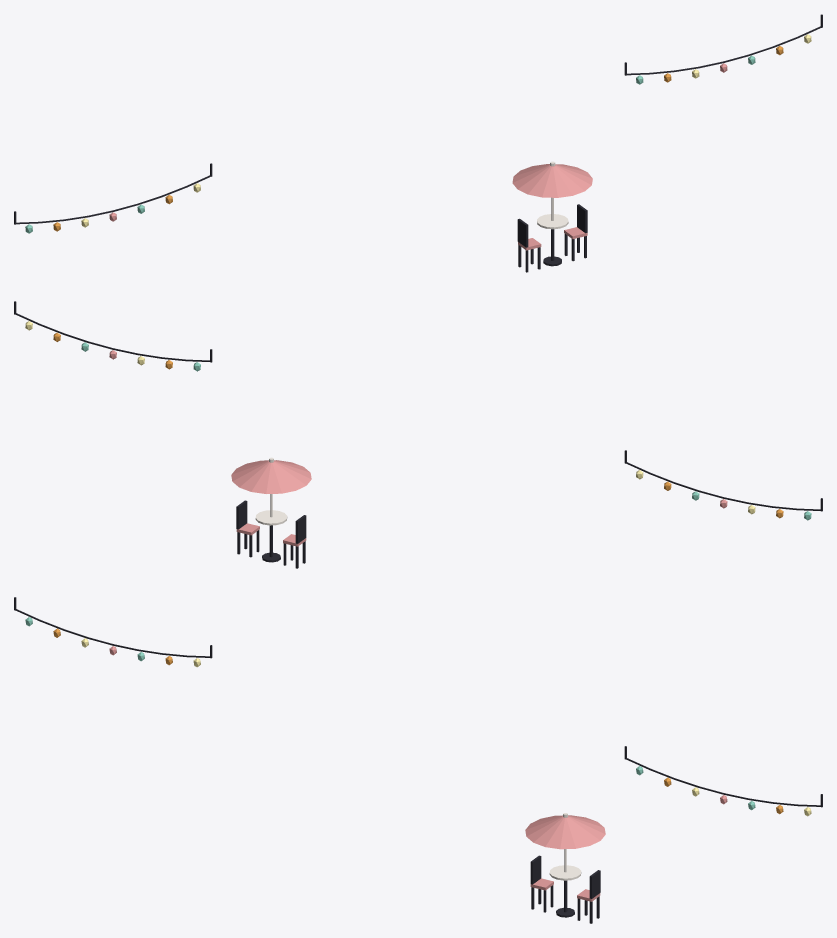
Rendered from CatCafe_Plot_Tier3_48x37.glb.
3 renders of one model, top to bottom at view 1: azimuth 30°, elevation 25°; view 2: azimuth 150°, elevation 25°; view 3: azimuth 330°, elevation 25°, orthographic.
Visible parts, largest first — view 1: CatCafe_Plot_Tier3_48x37_Bistro, CatCafe_Plot_Tier3_48x37, CatCafe_Plot_Tier3_48x37_StringLights_Bulbs; view 2: CatCafe_Plot_Tier3_48x37_Bistro, CatCafe_Plot_Tier3_48x37, CatCafe_Plot_Tier3_48x37_StringLights_Bulbs; view 3: CatCafe_Plot_Tier3_48x37_Bistro, CatCafe_Plot_Tier3_48x37, CatCafe_Plot_Tier3_48x37_StringLights_Bulbs.
Part boxes in pixels (x1,y1,x2,y2): CatCafe_Plot_Tier3_48x37_Bistro: (512,161,592,272); CatCafe_Plot_Tier3_48x37: (14,14,822,224); CatCafe_Plot_Tier3_48x37_StringLights_Bulbs: (25,34,811,233); CatCafe_Plot_Tier3_48x37_Bistro: (231,457,311,568); CatCafe_Plot_Tier3_48x37: (14,301,822,511); CatCafe_Plot_Tier3_48x37_StringLights_Bulbs: (25,321,811,520); CatCafe_Plot_Tier3_48x37_Bistro: (525,813,605,923); CatCafe_Plot_Tier3_48x37: (14,597,822,807); CatCafe_Plot_Tier3_48x37_StringLights_Bulbs: (25,617,811,816).
Bounding box in the file's own units: 43.68 × 9.71 × 3.8.
Materials: 1 (1 with a texture image).
